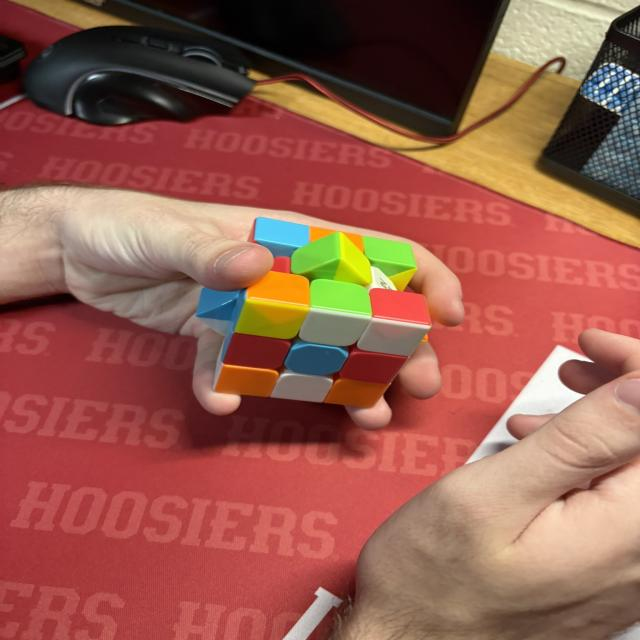Rubiks Cube: (197, 217, 430, 408)
